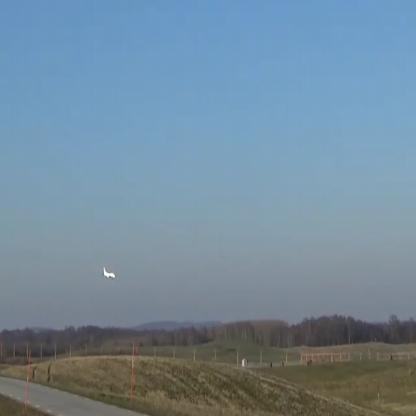CIV_Plane: (102, 266, 116, 280)
